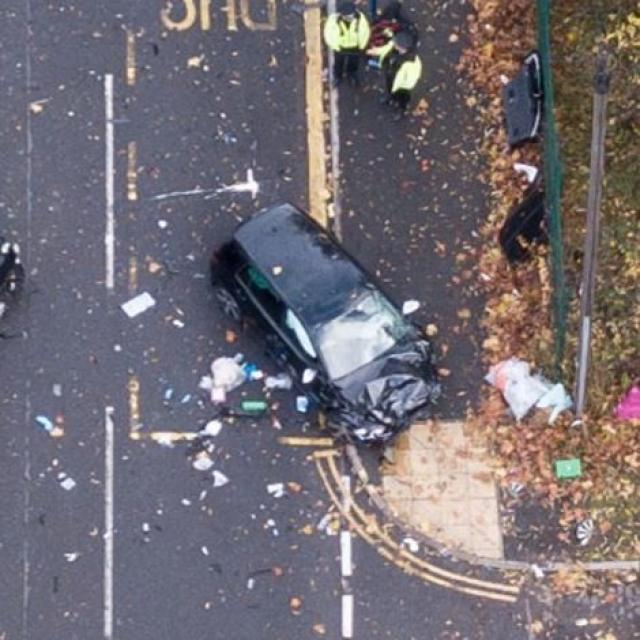traffic_incident: (212, 178, 446, 444)
